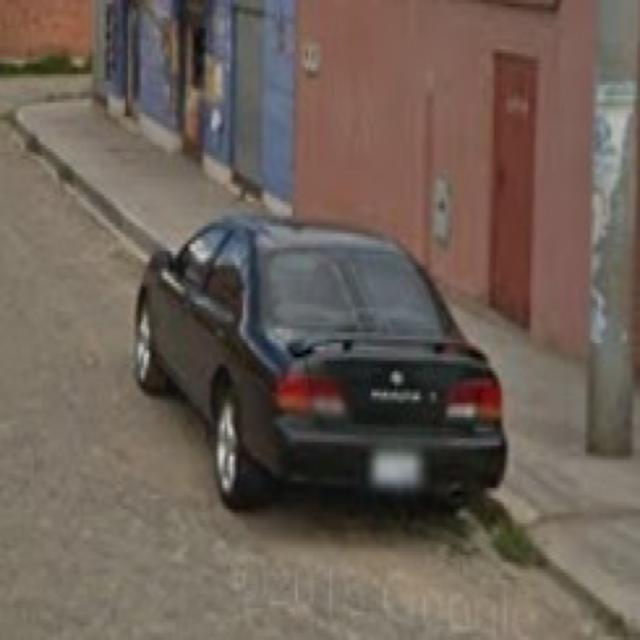cars: (136, 197, 514, 530)
